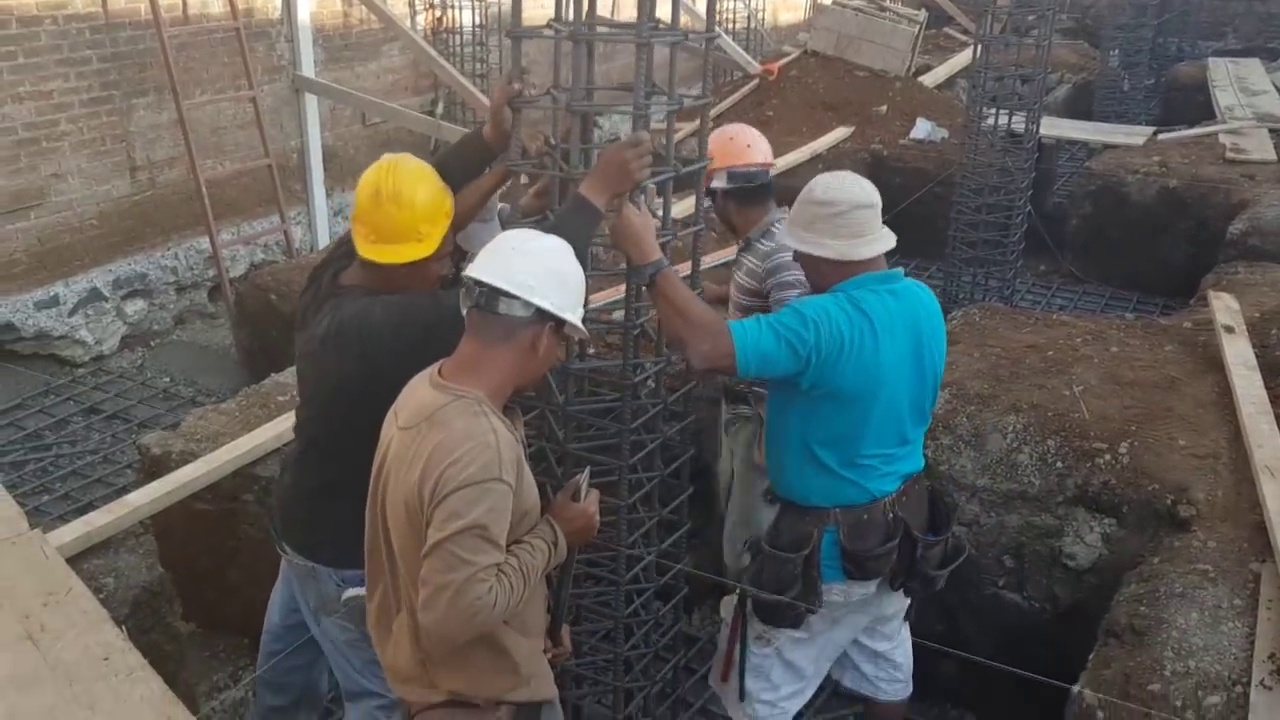helmet: (457, 225, 595, 345), (345, 150, 456, 267), (696, 119, 778, 194)
helmet-off: (780, 173, 906, 304)
helmet-on: (435, 226, 595, 402), (334, 149, 457, 299), (692, 113, 787, 243)
person: (246, 72, 652, 718), (613, 170, 948, 718), (369, 225, 604, 716), (688, 113, 824, 588)
